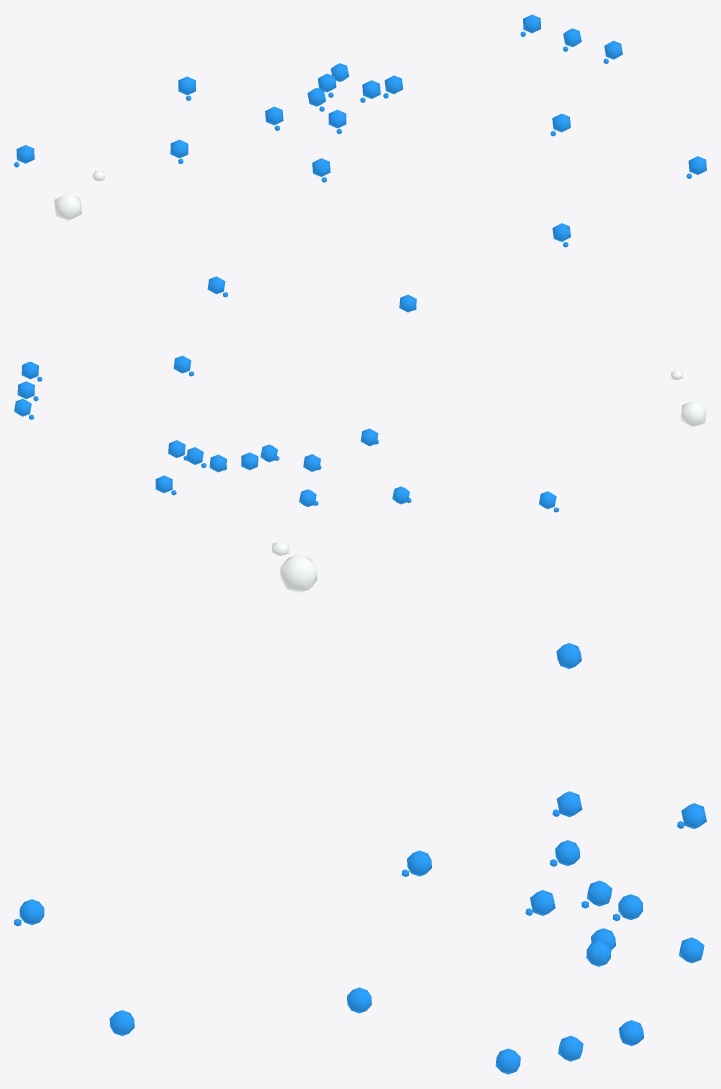
File: model_chunk_9.glb
3 views of the same model, one above another, from view 1: azimuth 30°, elevation 25°; view 2: azimuth 150°, elevation 25°; view 3: azimuth 270°, elevation 25° (orthographic). The views are drawn at different scales.
Visible parts, largest first — view 1: SplashParticle01086; view 2: SplashParticle01086; view 3: SplashParticle01086.
Part boxes in pixels (box(x1,y1,x2,y2)): SplashParticle01086: box(54, 170, 105, 220); SplashParticle01086: box(671, 370, 706, 427); SplashParticle01086: box(271, 541, 317, 593).
Size of the model in its own units: 1.06 by 0.185 by 0.7196.
Materials: 1 (1 with a texture image).
